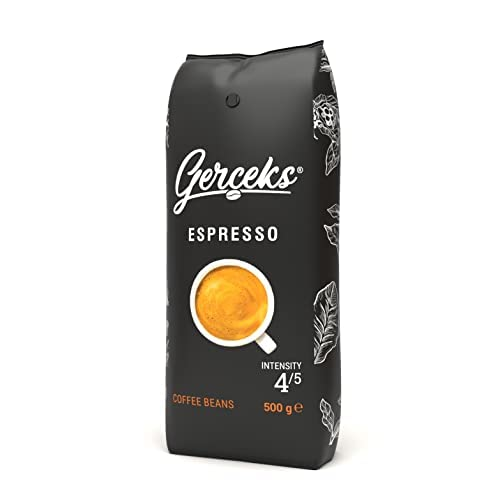ESPRESSO: (189, 227, 277, 241)
